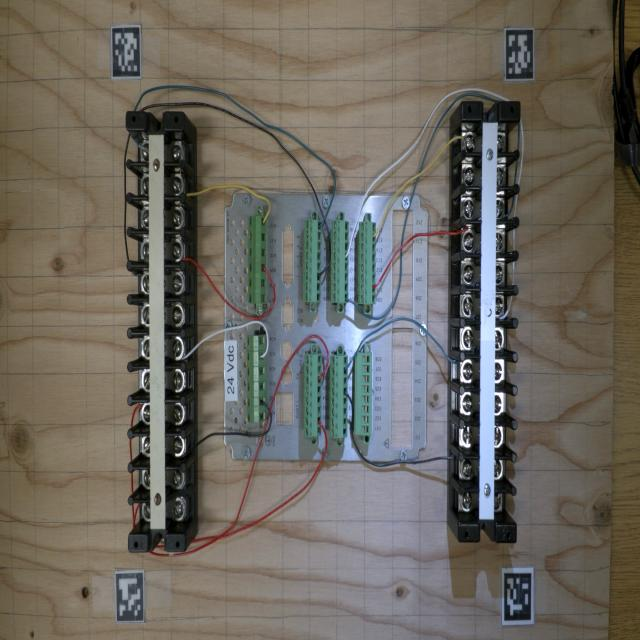Flathead_Block: (127, 113, 185, 551)
Phillips_Block: (459, 101, 520, 543)
Terminal_1: (247, 335, 267, 423), (248, 216, 267, 304)
Terminal_2: (303, 219, 322, 303), (304, 354, 322, 438), (330, 355, 348, 439), (358, 221, 376, 304), (331, 220, 349, 303)
